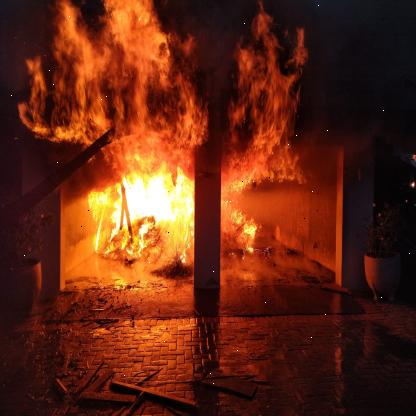fire: (26, 0, 294, 269)
